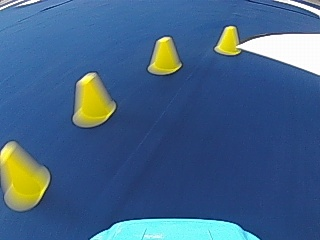cone: (0, 142, 49, 210), (72, 72, 116, 128), (147, 36, 182, 75), (214, 25, 242, 55)
